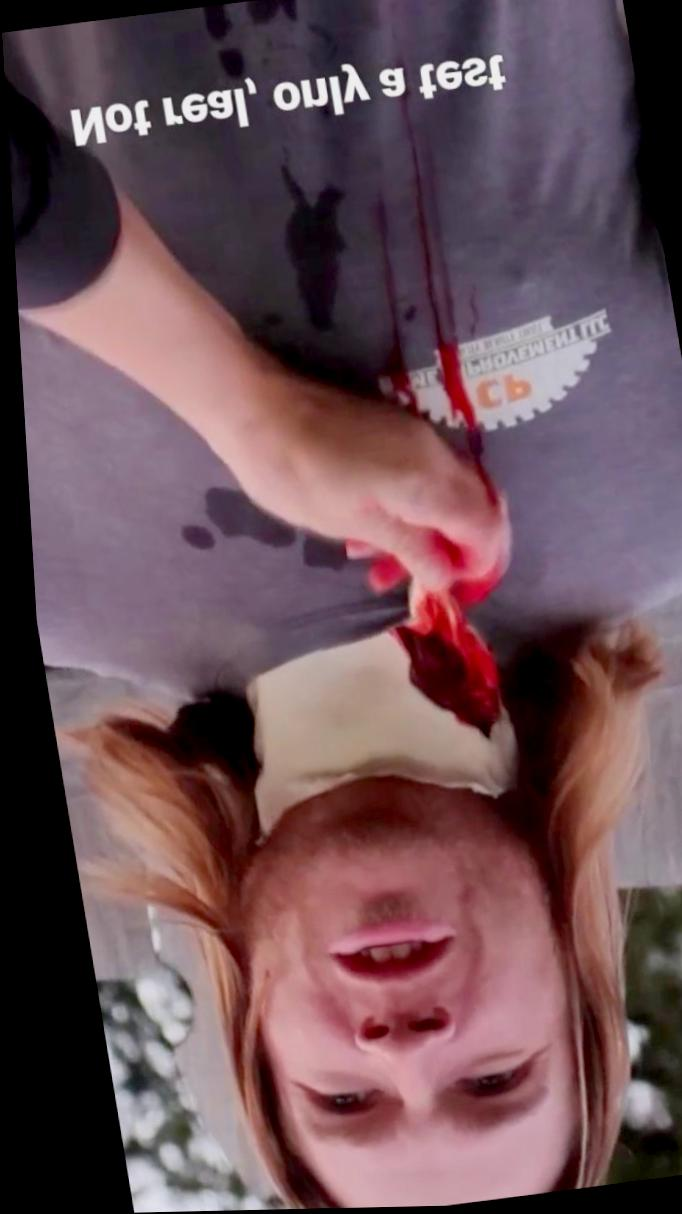Fire: (383, 574, 492, 740), (398, 102, 455, 368), (371, 191, 421, 411), (443, 370, 488, 515)
